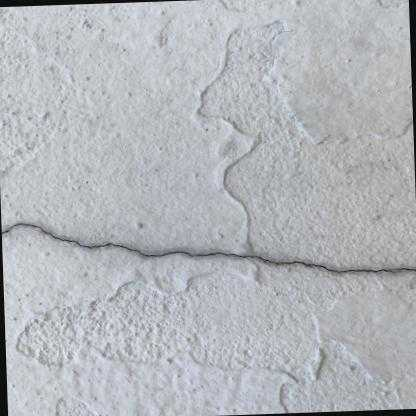crack: (1, 223, 398, 273), (390, 268, 416, 271)
